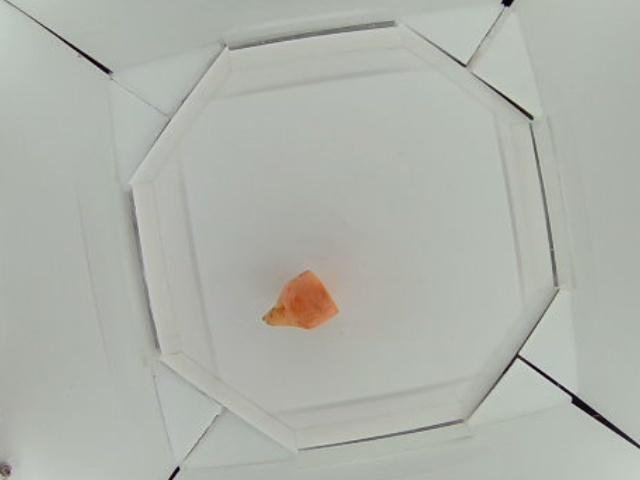Carrot: (260, 269, 337, 328)
